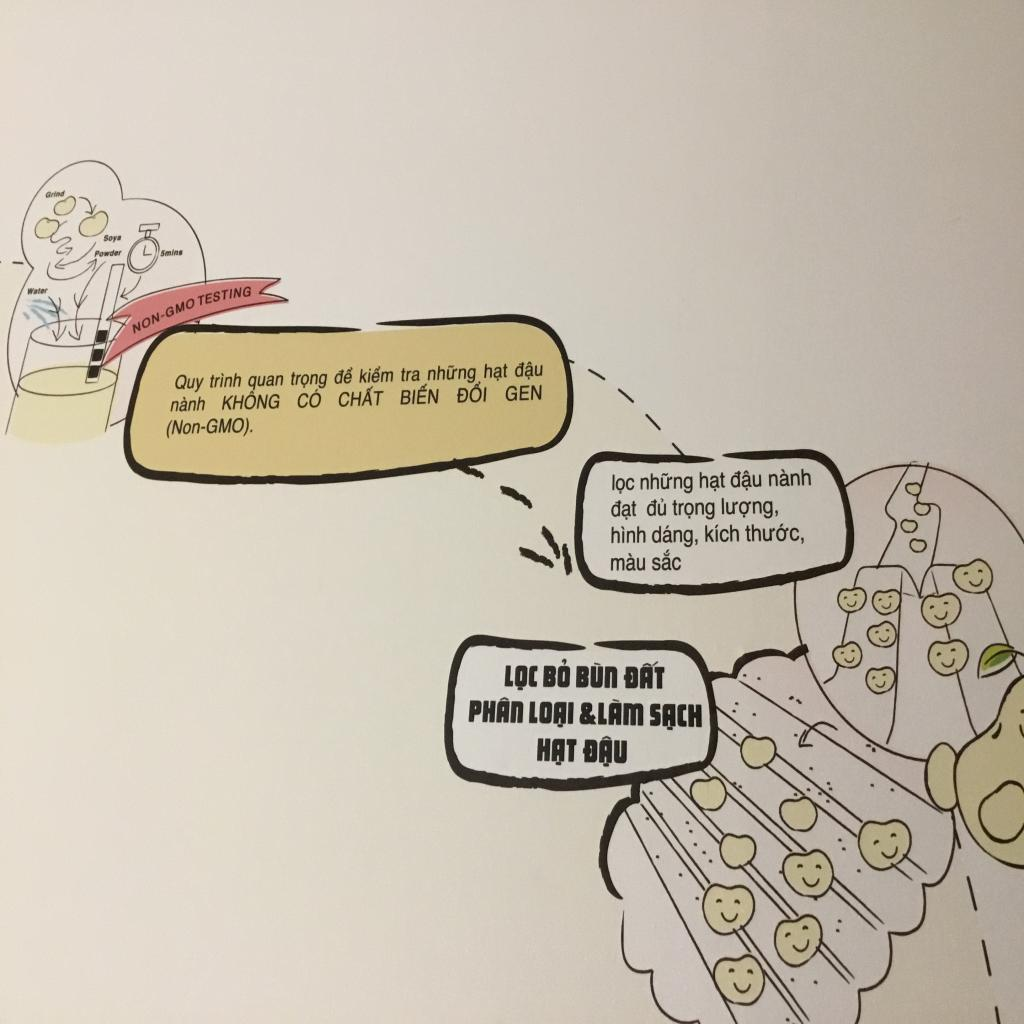text: (464, 692, 524, 727), (648, 700, 704, 735), (717, 494, 781, 520), (597, 698, 647, 730), (527, 699, 575, 731), (534, 734, 578, 768), (639, 469, 695, 495), (622, 659, 666, 692), (196, 285, 254, 309), (743, 519, 801, 543), (220, 390, 282, 412), (574, 661, 620, 689), (335, 385, 385, 409), (670, 496, 716, 522), (426, 362, 478, 384), (766, 466, 812, 490), (649, 523, 694, 547), (502, 664, 540, 692), (397, 383, 440, 407), (542, 658, 573, 690), (728, 466, 764, 493), (700, 523, 741, 545), (165, 417, 202, 441), (454, 380, 487, 406), (609, 524, 647, 546), (610, 550, 646, 573), (288, 370, 328, 390), (502, 383, 544, 402), (132, 310, 162, 336), (164, 296, 196, 320), (650, 550, 682, 574), (204, 416, 244, 435), (608, 471, 637, 497), (696, 470, 727, 493), (208, 371, 244, 390), (174, 372, 205, 394), (513, 360, 544, 382), (608, 499, 636, 523), (247, 374, 286, 391), (294, 389, 324, 411), (358, 366, 394, 384), (168, 396, 208, 412), (482, 360, 509, 382), (644, 496, 669, 518), (578, 701, 596, 727), (332, 366, 354, 386), (398, 366, 421, 384), (94, 248, 123, 258), (102, 233, 124, 246), (159, 248, 183, 258), (43, 189, 66, 199), (26, 287, 50, 296), (242, 418, 253, 437)
